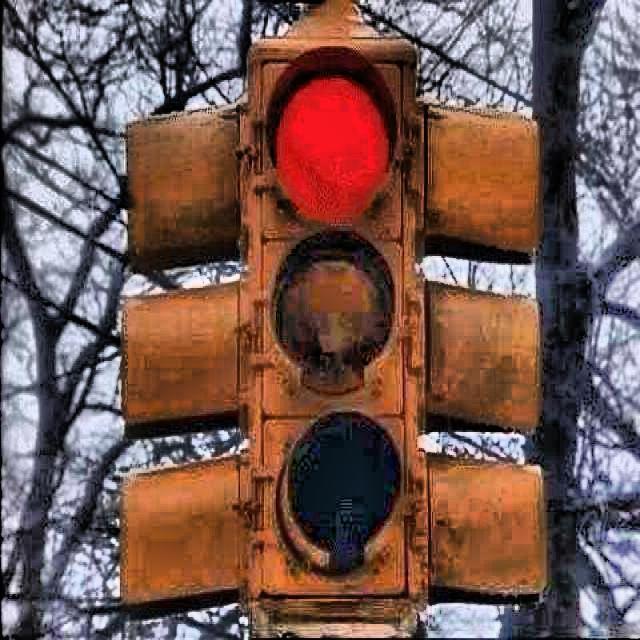red: (245, 33, 422, 599)
